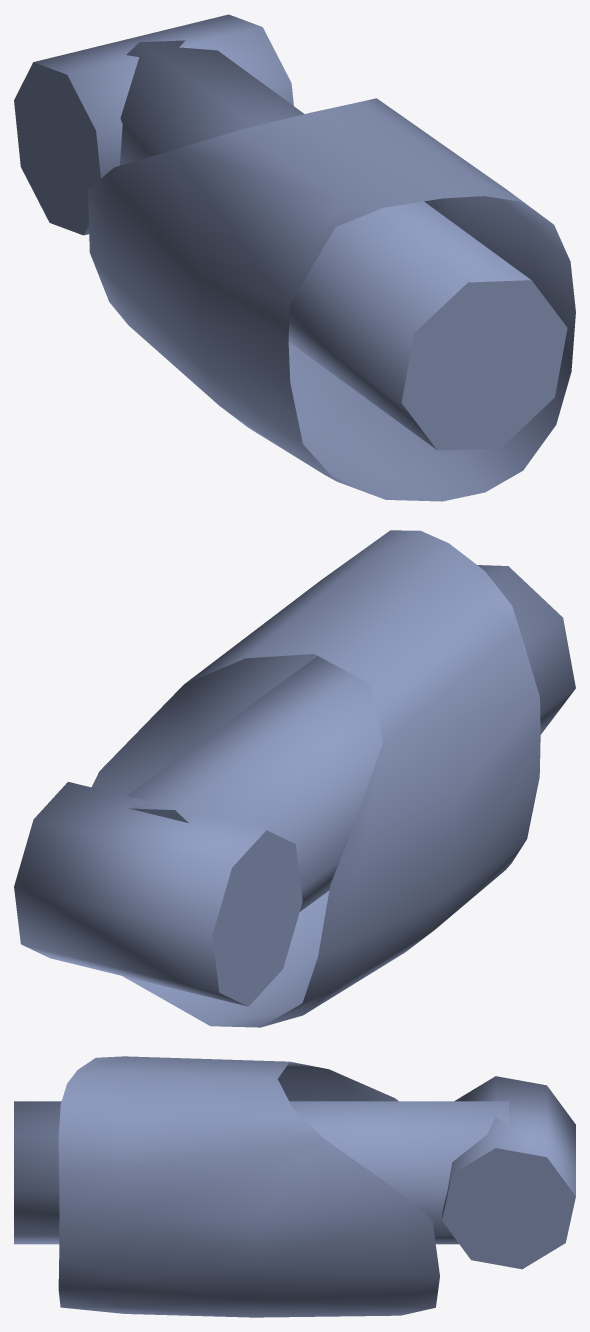
Rendered from icub_simple_collision_l_thigh.dae.
The picture shows the model from 3 angles, top to bottom: view 1: azimuth 30°, elevation 25°; view 2: azimuth 150°, elevation 25°; view 3: azimuth 270°, elevation 25°; orthographic projection. The views are drawn at different scales.
Visible parts, largest first — view 1: l_thigh_mesh; view 2: l_thigh_mesh; view 3: l_thigh_mesh.
Boxes of the visible parts, left/top/right/bottom form: l_thigh_mesh: left=14, top=14, right=575, bottom=501; l_thigh_mesh: left=14, top=530, right=575, bottom=1027; l_thigh_mesh: left=14, top=1056, right=575, bottom=1317.
Size of the model in its own units: 0.1024 by 0.1173 by 0.2543.
